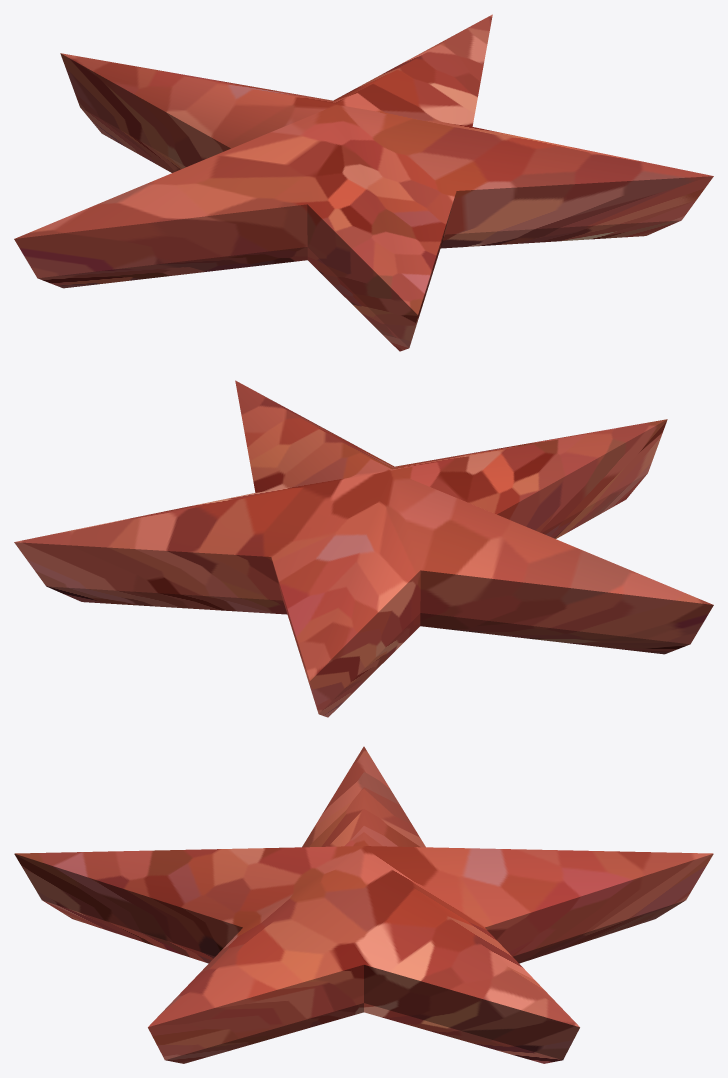
The model's file is Starfish.fbx.
The picture shows the model from 3 angles, top to bottom: view 1: azimuth 30°, elevation 25°; view 2: azimuth 150°, elevation 25°; view 3: azimuth 270°, elevation 25°; orthographic projection. The views are drawn at different scales.
Visible parts, largest first — view 1: pCylinder1; view 2: pCylinder1; view 3: pCylinder1.
Part boxes in pixels (box(x1,y1,x2,y2)): pCylinder1: box(14, 14, 713, 351); pCylinder1: box(14, 380, 713, 717); pCylinder1: box(14, 746, 713, 1063).
Bounding box in the file's own units: 2 × 0.38 × 2.1.
